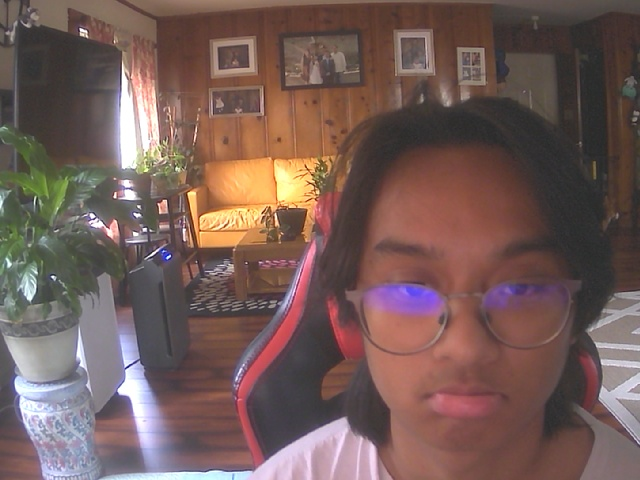sad: (338, 113, 599, 463)
